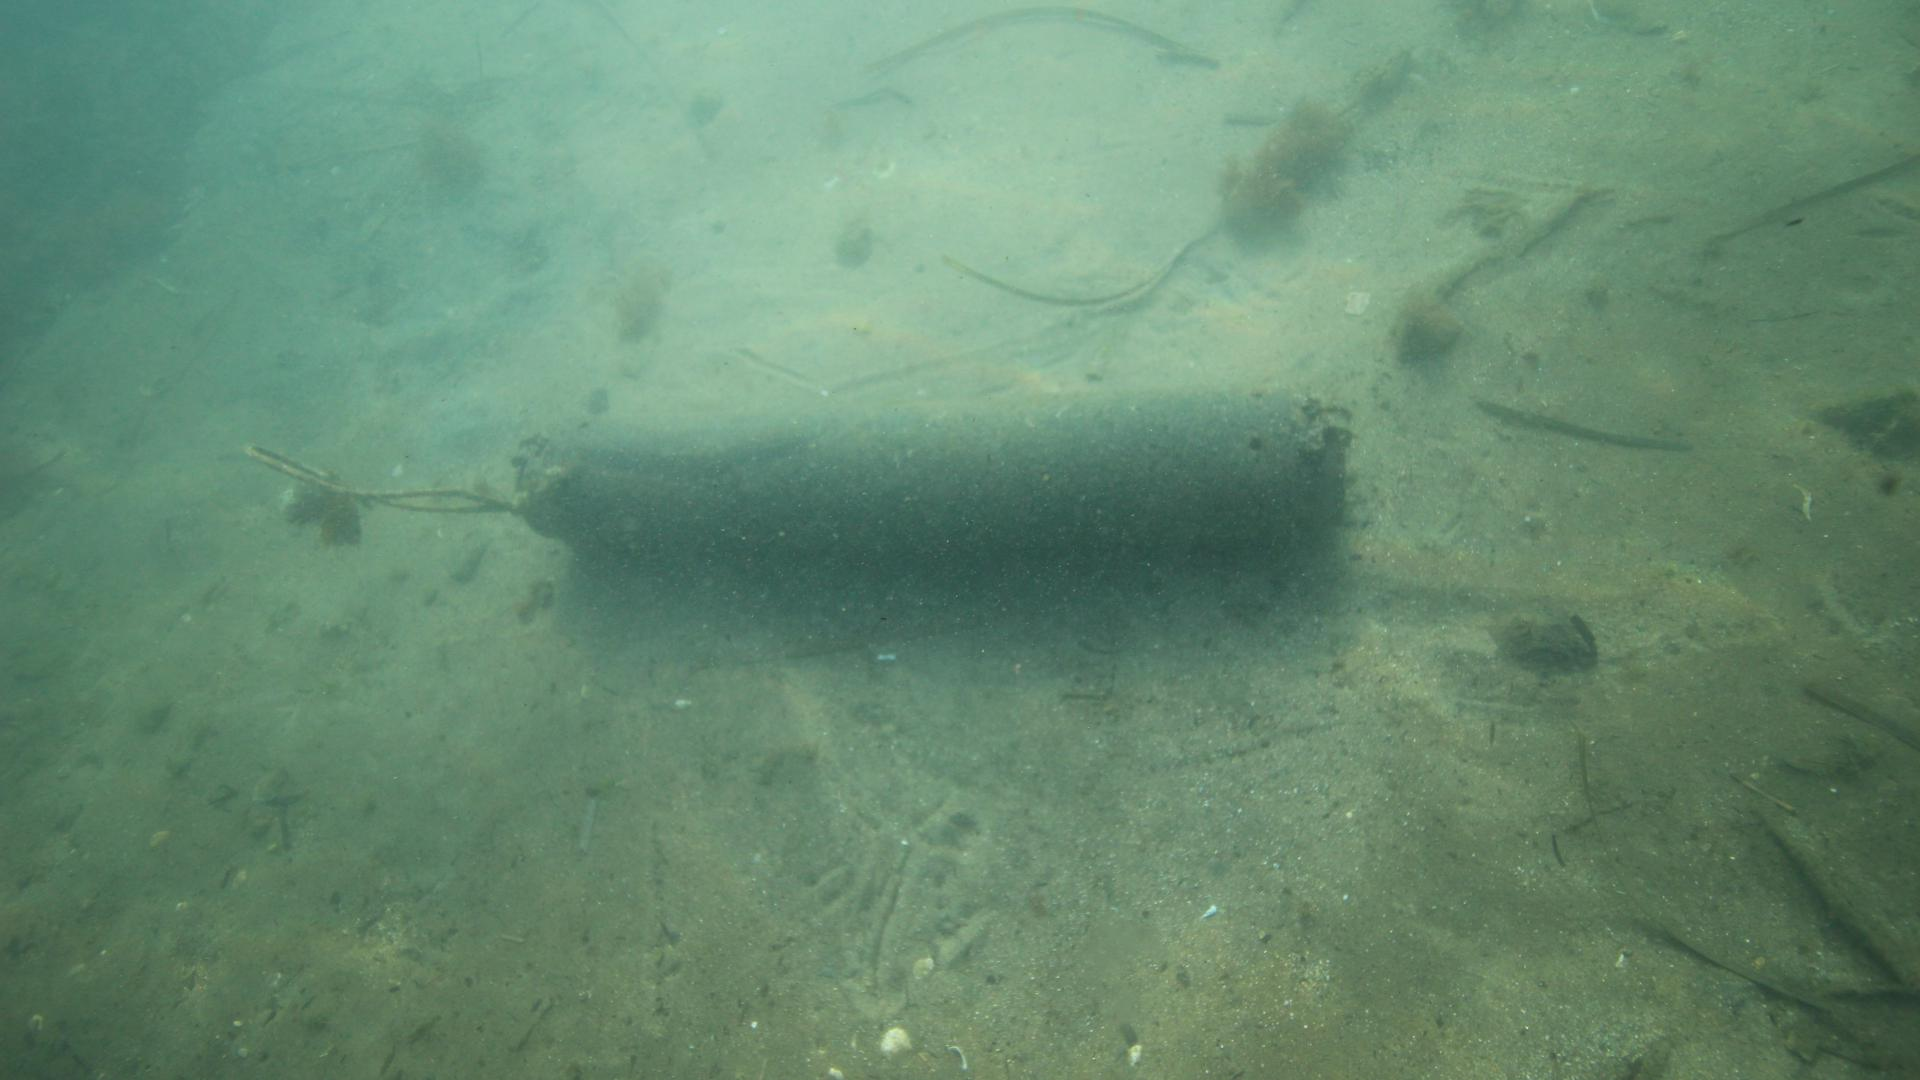bundle of ropes: (229, 434, 510, 530)
eel fish trap: (516, 382, 1352, 560)
